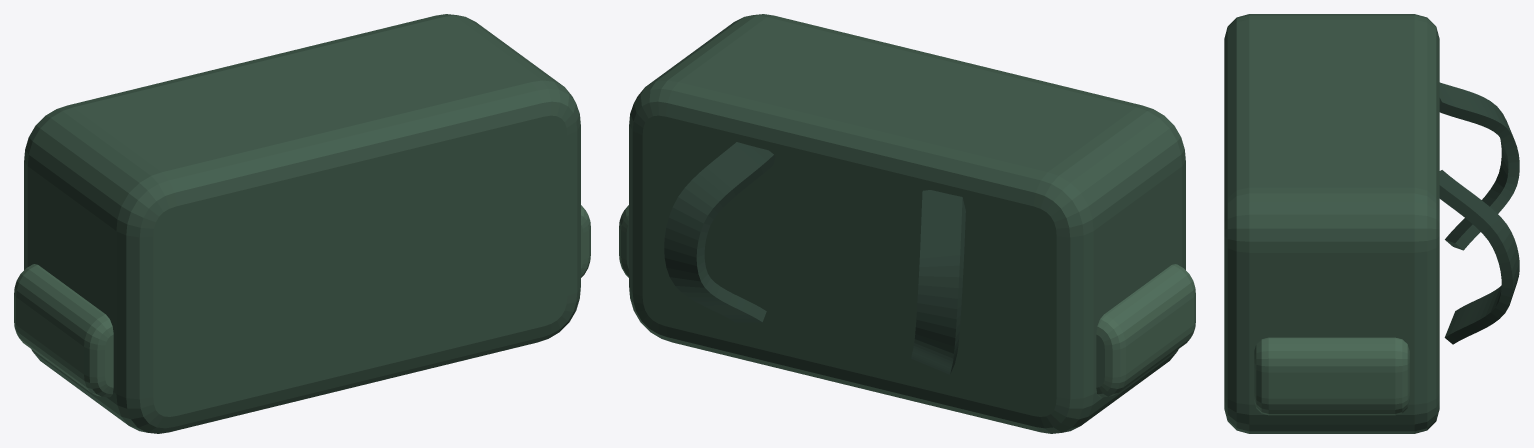
File: duffel-60.glb
The picture shows the model from 3 angles, left to right: view 1: azimuth 30°, elevation 25°; view 2: azimuth 150°, elevation 25°; view 3: azimuth 270°, elevation 25°; orthographic projection. The views are drawn at different scales.
Parts seen in each view (by area): view 1: body, side-pocket-l, side-pocket-r; view 2: body, shoulder-strap-r, side-pocket-l, shoulder-strap-l, side-pocket-r; view 3: body, side-pocket-r, shoulder-strap-r, shoulder-strap-l.
Part boxes in pixels (x1,y1,x2,y2): body: [24, 14, 580, 433]; side-pocket-l: [14, 264, 113, 397]; side-pocket-r: [581, 205, 590, 277]; body: [629, 14, 1185, 433]; shoulder-strap-r: [664, 142, 775, 322]; side-pocket-l: [1096, 264, 1195, 397]; shoulder-strap-l: [911, 190, 965, 374]; side-pocket-r: [619, 205, 628, 277]; body: [1224, 14, 1439, 433]; side-pocket-r: [1254, 337, 1409, 415]; shoulder-strap-r: [1439, 170, 1519, 344]; shoulder-strap-l: [1439, 82, 1519, 250].
Size of the model in its own units: 0.756 by 0.37 by 0.4114.
